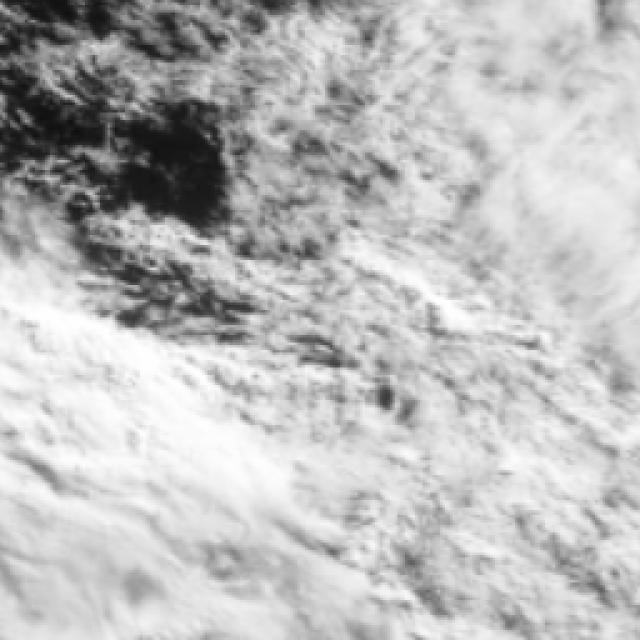CB: (407, 427, 637, 640), (184, 461, 388, 638), (0, 460, 172, 640), (100, 377, 281, 544), (494, 122, 640, 322), (0, 336, 150, 518)
